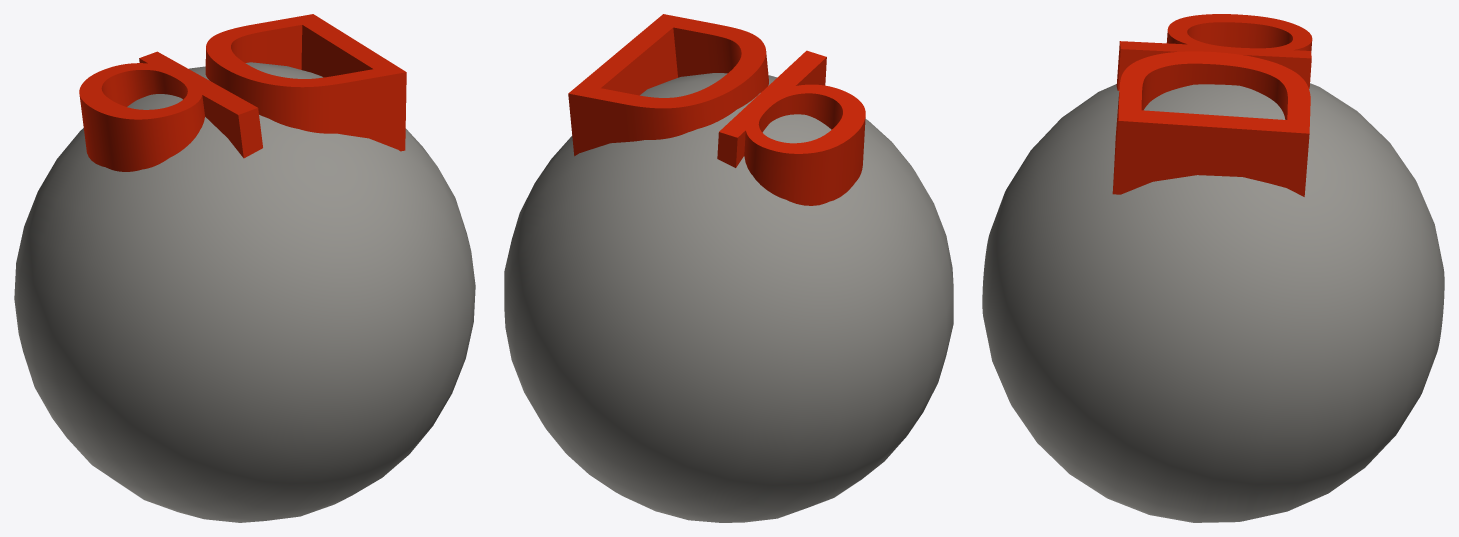
3 renders of one model, left to right at view 1: azimuth 30°, elevation 25°; view 2: azimuth 150°, elevation 25°; view 3: azimuth 270°, elevation 25°, orthographic. The views are drawn at different scales.
Parts seen in each view (by area): view 1: Hf001, Object021, Object023; view 2: Hf001, Object021, Object023; view 3: Hf001, Object021, Object023.
Boxes of the visible parts, left/top/right/bottom form: Hf001: left=14, top=62, right=475, bottom=522; Object021: left=205, top=14, right=406, bottom=151; Object023: left=79, top=51, right=262, bottom=171; Hf001: left=504, top=73, right=953, bottom=522; Object021: left=568, top=14, right=768, bottom=156; Object023: left=717, top=50, right=865, bottom=205; Hf001: left=982, top=83, right=1444, bottom=522; Object021: left=1112, top=51, right=1310, bottom=196; Object023: left=1116, top=14, right=1312, bottom=90.
Size of the model in its own units: 38.67 by 40.86 by 38.66.
